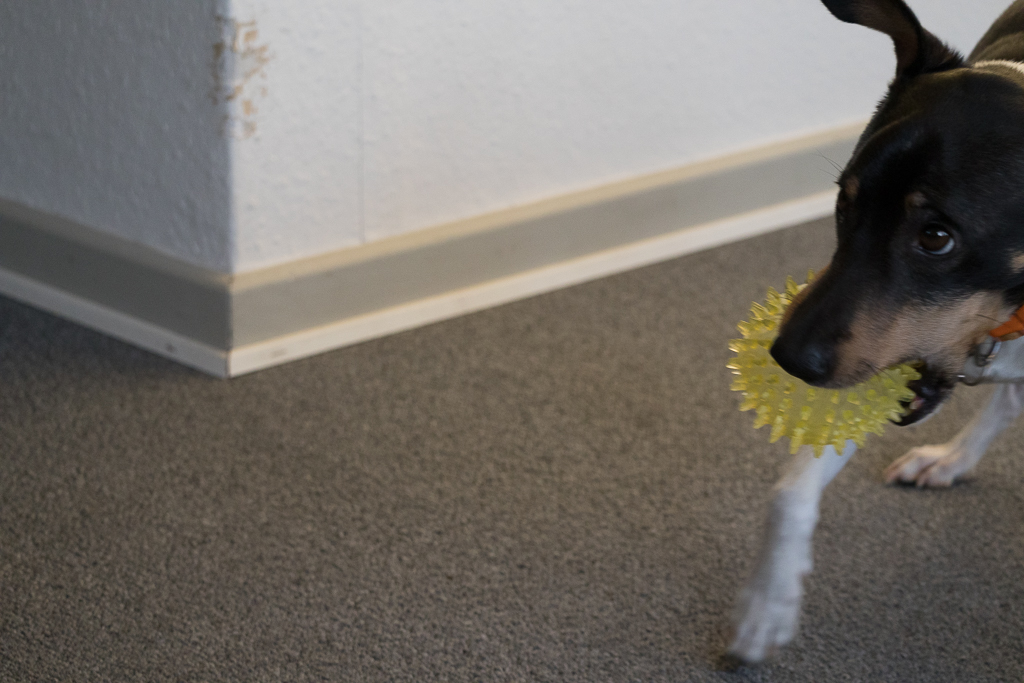Dog: (704, 0, 1024, 677)
